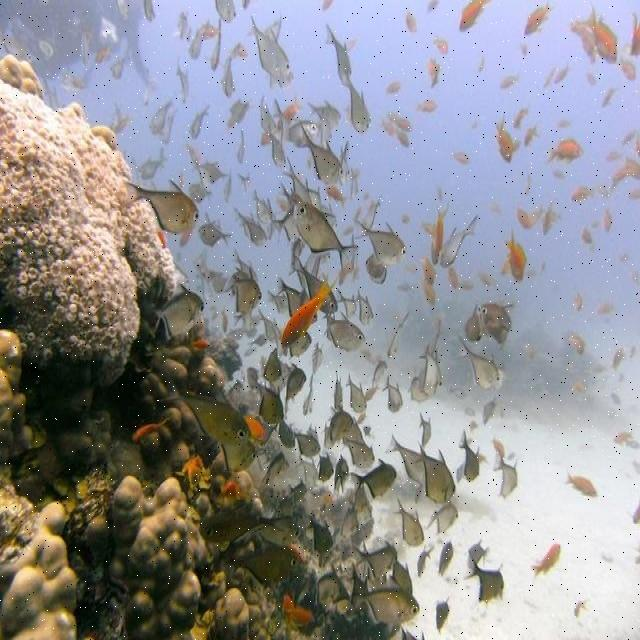fish: (158, 377, 252, 446), (123, 178, 203, 248), (293, 201, 360, 272), (198, 500, 292, 543), (352, 575, 420, 633), (281, 277, 331, 347), (289, 240, 360, 288), (249, 177, 301, 242), (153, 283, 206, 340), (452, 334, 503, 390), (300, 122, 345, 185), (354, 217, 408, 266), (412, 443, 456, 503), (223, 550, 298, 585), (576, 3, 617, 63), (248, 18, 289, 78), (463, 549, 504, 608), (438, 213, 481, 269), (385, 435, 424, 487), (350, 458, 398, 499), (323, 311, 367, 353), (224, 267, 263, 313), (221, 40, 250, 101), (188, 162, 228, 204), (392, 496, 424, 547), (271, 318, 293, 392), (326, 24, 353, 84), (303, 343, 325, 415), (306, 516, 334, 567), (282, 156, 312, 203), (342, 71, 364, 135), (192, 252, 226, 293), (481, 303, 514, 343), (255, 517, 302, 545), (295, 256, 327, 297), (338, 140, 361, 196), (329, 407, 362, 445), (342, 485, 367, 534), (494, 448, 518, 498), (189, 20, 219, 60), (221, 440, 257, 473), (353, 539, 397, 566), (224, 309, 261, 341), (432, 201, 450, 266), (425, 499, 458, 534), (458, 430, 480, 482), (340, 436, 375, 468), (545, 138, 585, 165), (262, 122, 286, 167), (272, 206, 301, 243), (258, 381, 282, 425), (285, 363, 306, 413), (388, 311, 409, 361), (261, 451, 290, 487), (494, 111, 514, 163), (132, 416, 172, 442), (504, 223, 526, 270), (531, 544, 561, 578), (524, 1, 553, 36), (419, 343, 438, 396), (149, 97, 176, 134), (459, 1, 491, 32), (308, 99, 342, 128), (388, 555, 413, 594), (272, 407, 295, 449), (277, 278, 301, 317), (345, 373, 368, 413), (199, 220, 232, 247), (407, 367, 432, 402), (292, 429, 321, 458), (564, 472, 599, 496), (239, 216, 267, 246), (274, 96, 289, 151), (381, 375, 402, 413), (464, 305, 485, 343), (135, 155, 168, 179), (356, 289, 376, 326), (366, 253, 388, 286), (188, 105, 210, 138), (363, 193, 383, 228), (209, 19, 222, 72), (262, 348, 282, 382), (175, 60, 190, 104), (320, 278, 338, 314), (243, 415, 267, 442), (289, 120, 319, 141), (417, 545, 436, 578), (283, 96, 304, 125), (335, 453, 350, 493), (289, 331, 312, 357), (310, 186, 333, 212), (436, 542, 453, 577), (337, 290, 358, 318), (468, 540, 490, 566), (258, 309, 275, 342), (260, 97, 276, 132), (296, 457, 318, 482), (325, 185, 350, 207), (436, 597, 450, 634), (317, 452, 334, 482), (348, 562, 364, 593), (268, 292, 289, 314), (215, 1, 236, 22), (368, 561, 391, 579), (289, 479, 307, 502), (184, 140, 200, 165), (372, 359, 388, 384), (419, 413, 431, 446), (571, 186, 593, 204), (334, 371, 343, 411), (573, 599, 591, 618), (223, 168, 233, 202), (322, 422, 333, 450), (248, 332, 268, 347), (366, 383, 381, 402), (510, 263, 525, 282), (115, 0, 129, 20), (144, 0, 156, 21), (500, 254, 512, 275), (246, 368, 259, 387), (220, 307, 229, 333), (237, 132, 244, 163), (358, 410, 368, 424)
reefs: (0, 297, 309, 639), (0, 54, 190, 384)
